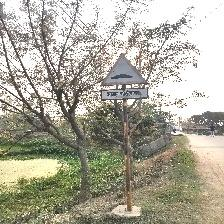Speed-breaker: (102, 56, 148, 100)
